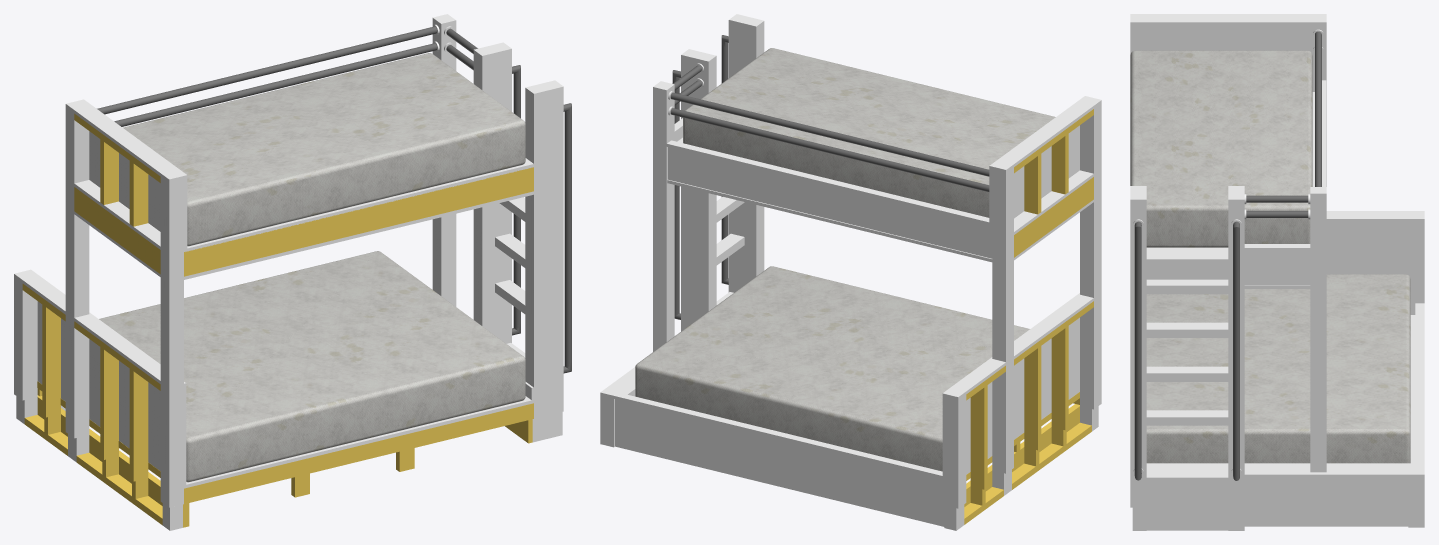
File: bunk-bed-queen.glb
The picture shows the model from 3 angles, left to right: view 1: azimuth 30°, elevation 25°; view 2: azimuth 150°, elevation 25°; view 3: azimuth 270°, elevation 25°; orthographic projection. The views are drawn at different scales.
Parts seen in each view (by area): view 1: queen-queen, twin-mattress, twin-rail-left, bunk-leg-head-left, bunk-leg-foot-left, bunk-leg-head-right, queen-rail-left, ladder-leg-left, queen-molding-head-front, ladder-leg-right-back, twin-platform, queen-leg-head-right (+23 smaller); view 2: queen-queen, twin-mattress, queen-rail-right, twin-rail-right, bunk-leg-head-right, bunk-leg-head-left, bunk-leg-foot-right, queen-molding-head-front, ladder-leg-right-back, queen-leg-head-right, queen-molding-rail-right, bunk-leg-foot-left (+22 smaller); view 3: queen-queen, twin-mattress, queen-rail-foot-right, twin-molding-head-front, queen-molding-head-front, bunk-leg-foot-right, ladder-bottom-front, ladder-leg-left, ladder-leg-right-front, queen-molding-foot-top, twin-rail-foot-right, ladder-bars-right.001 (+18 smaller).
Part boxes in pixels (x1,y1,x2,y2): queen-queen: (99,251,525,482); twin-mattress: (123,53,525,246); twin-rail-left: (184,167,533,276); bunk-leg-head-left: (160,177,183,530); bunk-leg-foot-left: (525,84,548,442); bunk-leg-head-right: (65,107,89,462); queen-rail-left: (184,403,533,503); ladder-leg-left: (541,80,563,438); queen-molding-head-front: (37,301,186,488); ladder-leg-right-back: (473,46,496,336); twin-platform: (74,158,533,251); queen-leg-head-right: (14,277,37,423); queen-queen: (635,266,1029,471); twin-mattress: (683,48,1055,217); queen-rail-right: (615,399,944,526); twin-rail-right: (668,147,992,258); bunk-leg-head-right: (992,167,1013,495); bunk-leg-head-left: (1080,103,1101,431); bunk-leg-foot-right: (653,81,674,351); queen-molding-head-front: (942,317,1079,476); ladder-leg-right-back: (694,52,716,321); queen-leg-head-right: (944,395,966,530); queen-molding-rail-right: (600,389,944,479); bunk-leg-foot-left: (742,17,764,285); queen-queen: (1146,274,1410,463); twin-mattress: (1130,50,1312,247); queen-rail-foot-right: (1244,477,1408,526); twin-molding-head-front: (1130,21,1326,91); queen-molding-head-front: (1326,222,1424,314); bunk-leg-foot-right: (1310,187,1326,472); ladder-bottom-front: (1146,480,1228,530); ladder-leg-left: (1130,192,1146,530); ladder-leg-right-front: (1228,192,1244,530); queen-molding-foot-top: (1244,463,1415,477); twin-rail-foot-right: (1244,251,1310,285); ladder-bars-right.001: (1134,221,1141,480).
Size of the model in its own units: 2.43 by 2.01 by 1.6.
Materials: 6 (1 with a texture image).
